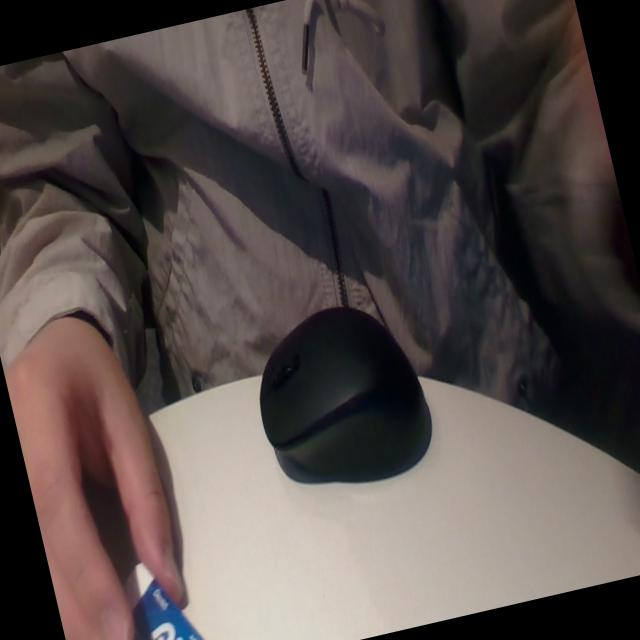eraser: (105, 543, 229, 640)
grab_eraser: (0, 305, 257, 640)
hand: (0, 298, 221, 640)
mouse: (222, 279, 457, 506)
